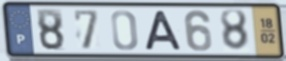0: (109, 9, 140, 52)
6: (183, 9, 214, 53)
7: (72, 9, 100, 52)
8: (35, 7, 67, 53), (219, 8, 250, 54)
A: (143, 9, 184, 51)
